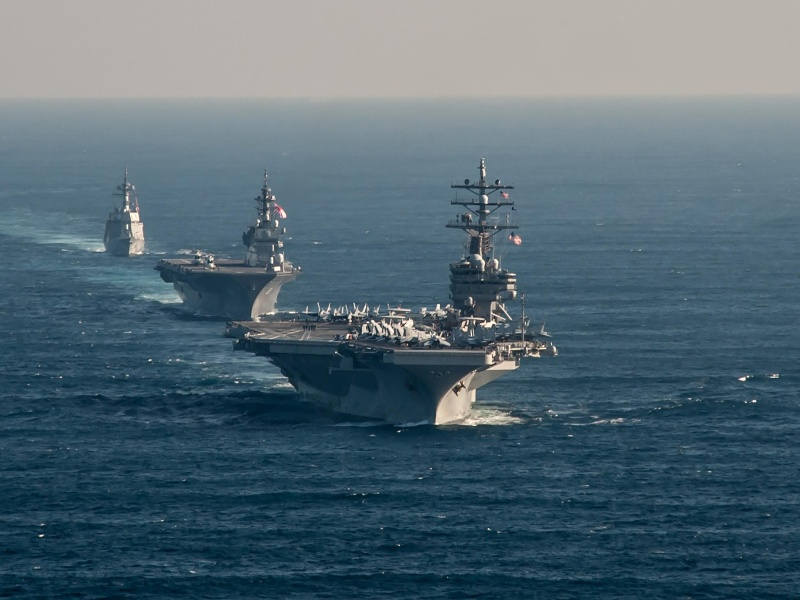carrier: (267, 290, 560, 437), (174, 197, 294, 312)
cruise: (104, 165, 154, 268)
